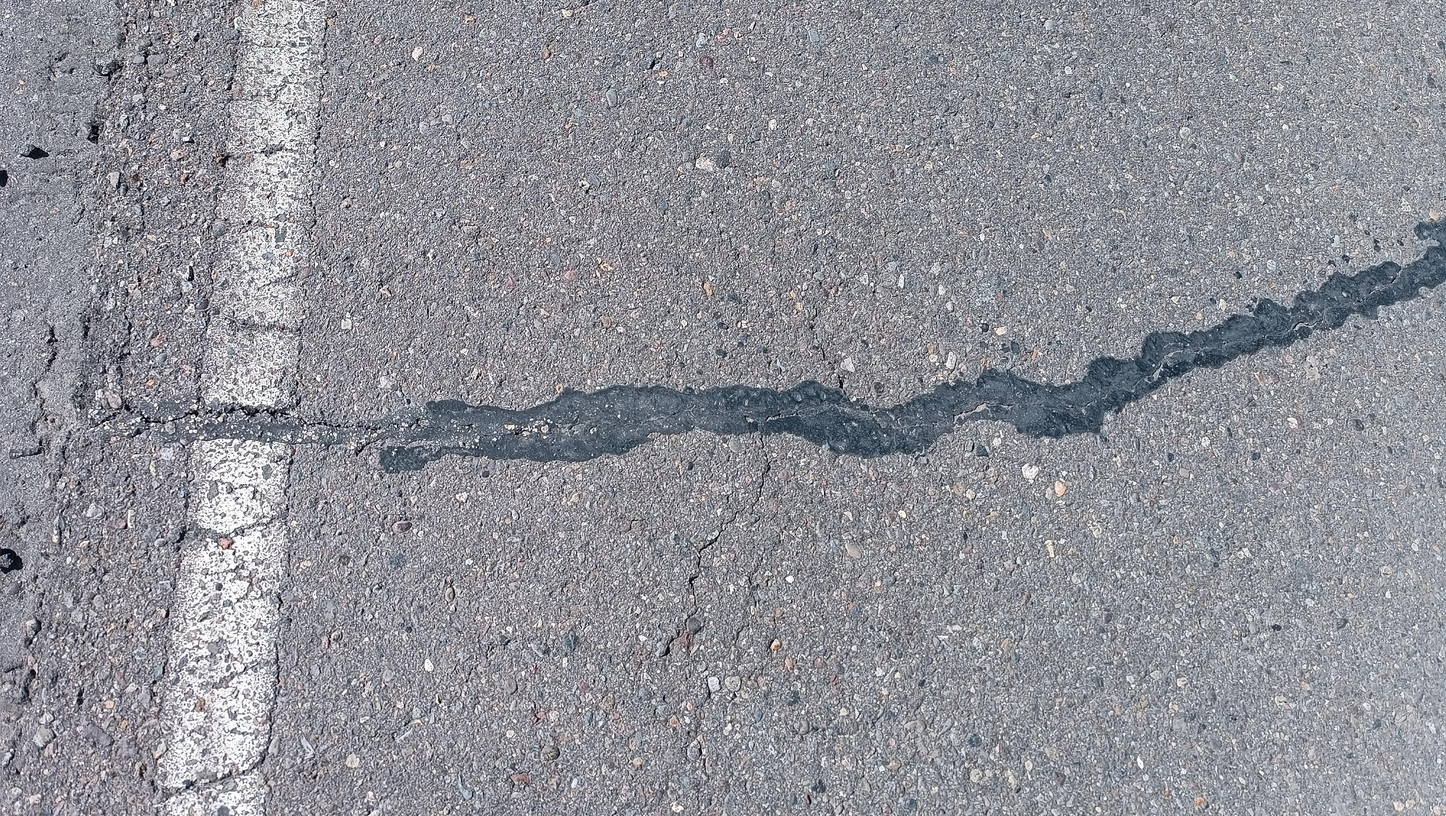GRIETA: (659, 501, 754, 660)
PARCHE: (188, 222, 1446, 472), (0, 0, 113, 557)
